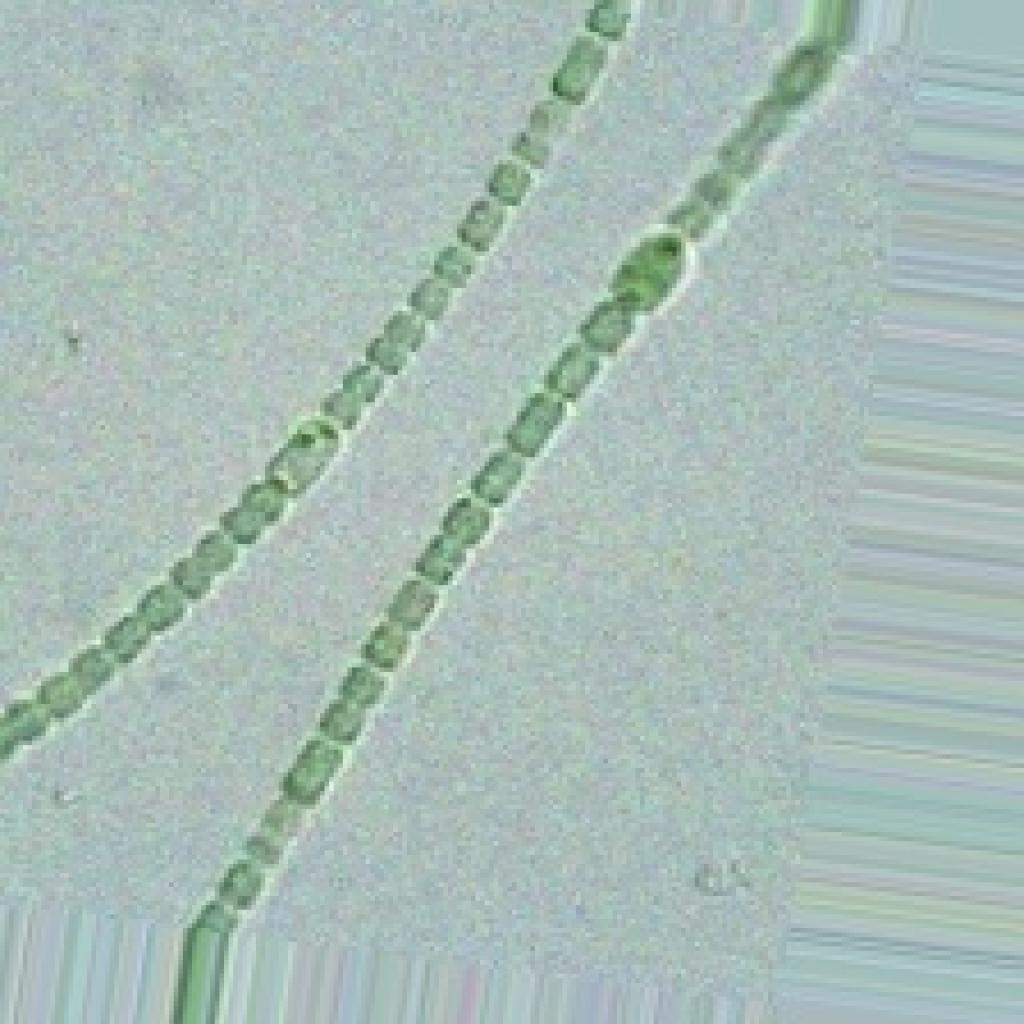Microalgae: (0, 0, 923, 1019)
